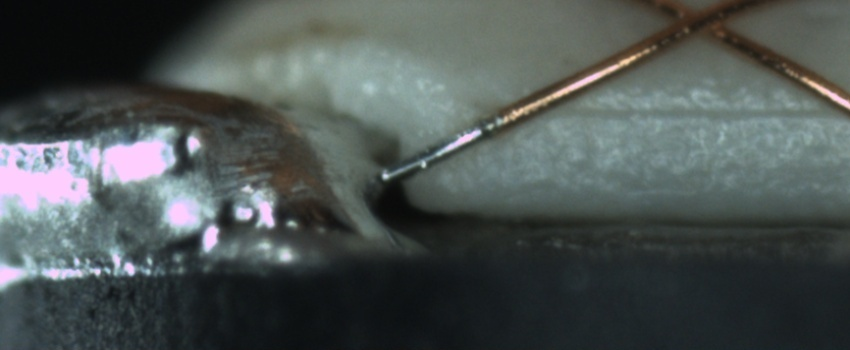CL: (656, 2, 744, 46)
DL: (540, 77, 849, 142)
TS: (380, 114, 505, 182)
